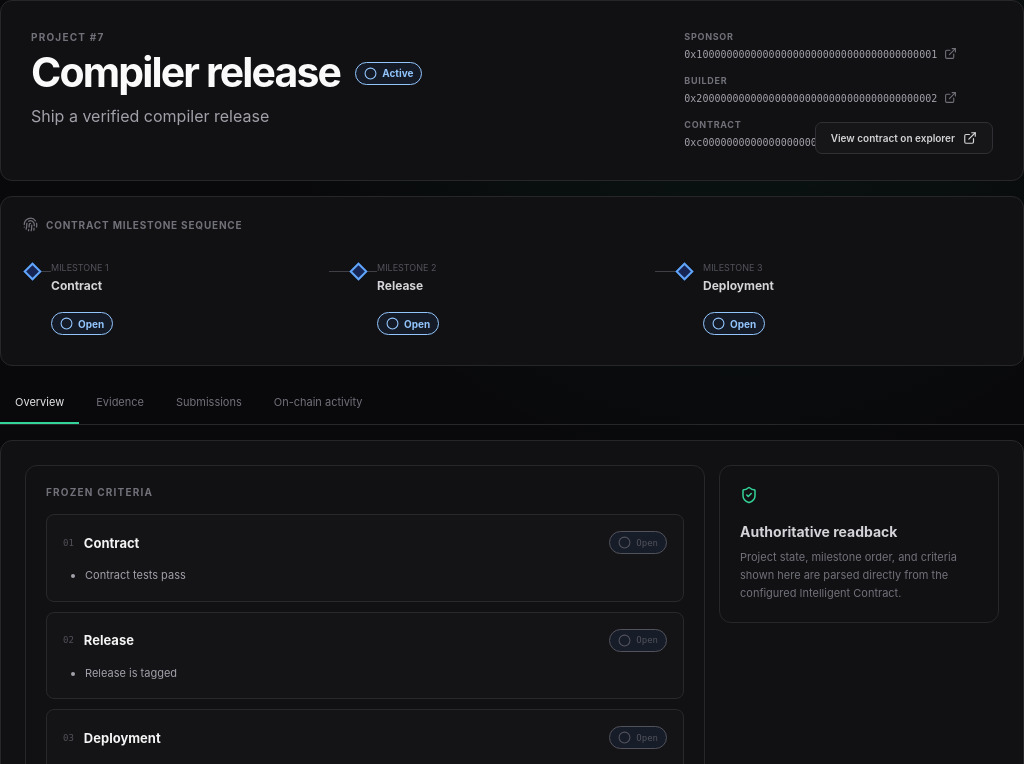
Scenario: ProjectWorkspace › keeps a non-builder read-only on OPEN milestone evidence
Check: the heading "Compiler release" is shown, box [31,51,340,94]
What coordinates should you click on to do the following:
click the tab "Evidence"
I would click on:
 (120, 402)
Its box is [81,381,159,424].
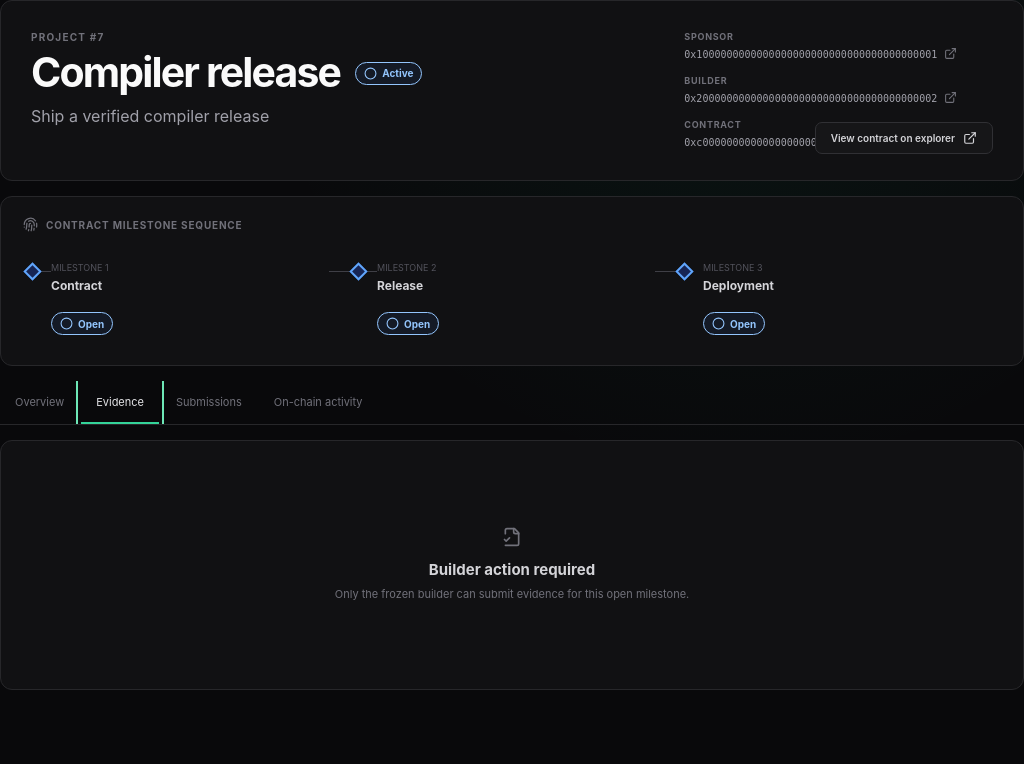
Check: the text "Only the frozen builder can submit evidence for this open milestone." is shown, box [335,586,689,603]
